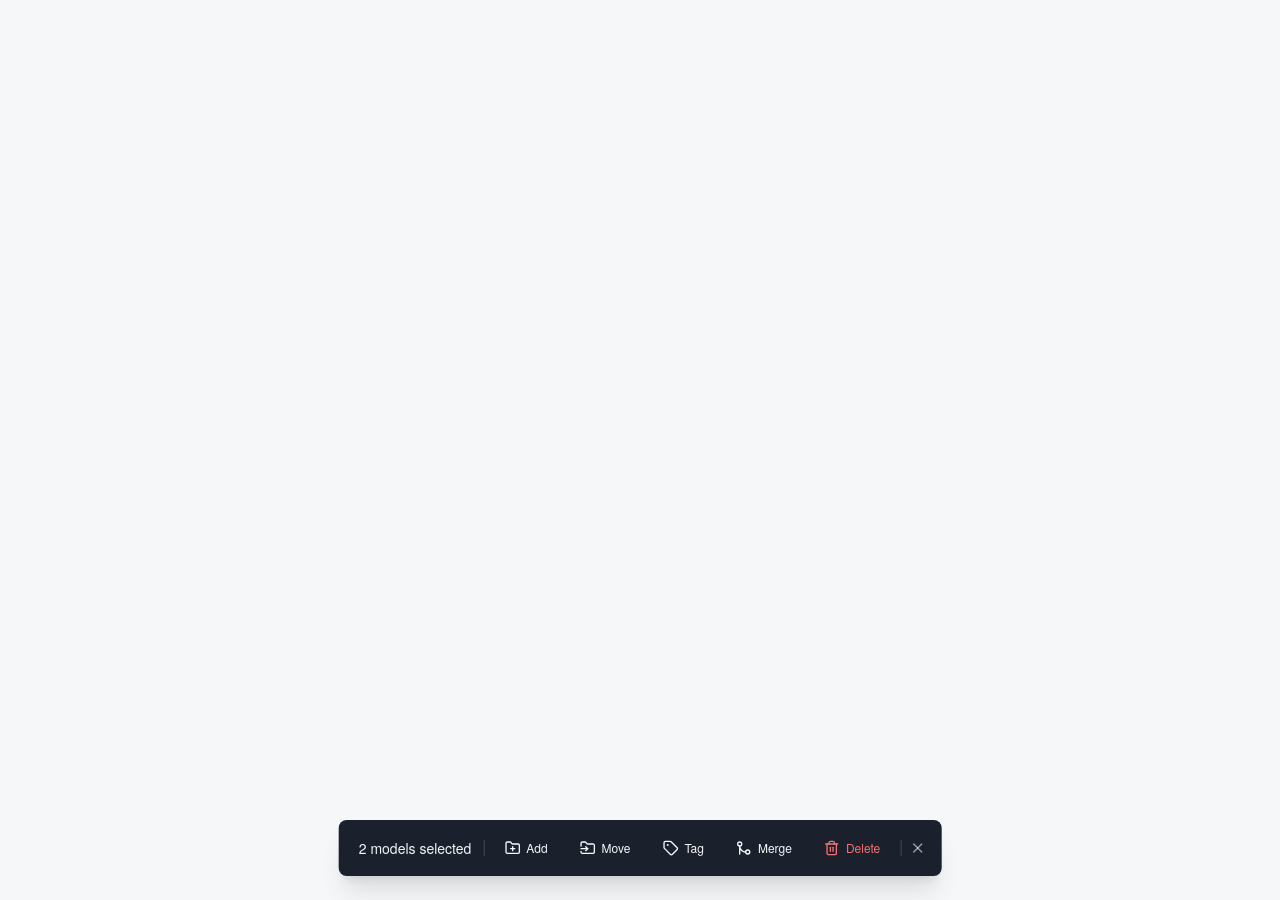
Test: BulkActions › merge › keeps merge disabled until a target is chosen
Click the button "Merge" at coordinates (764, 848), box x1=724 y1=832 x2=804 y2=864
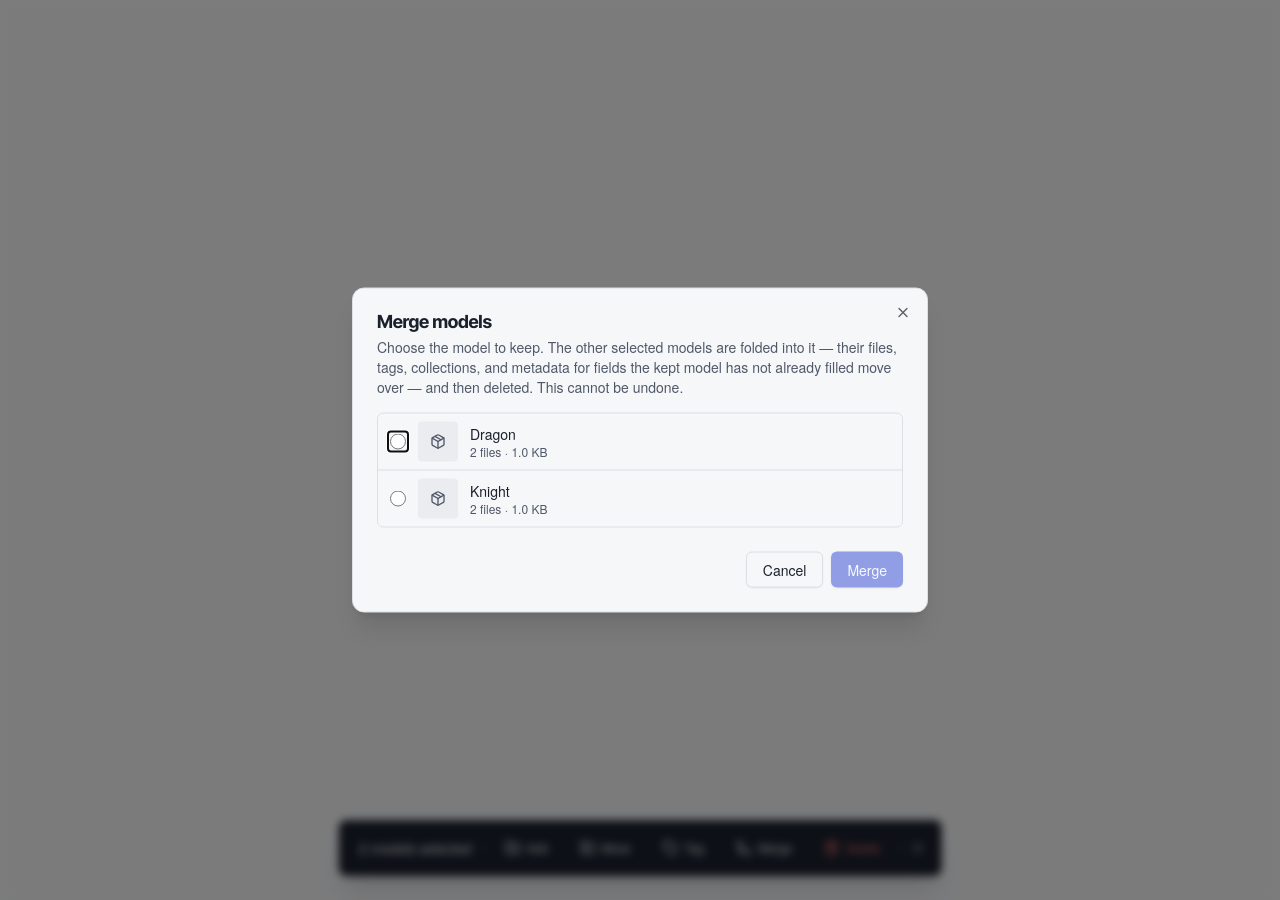
Expected: the button "Merge" is disabled, x1=831 y1=552 x2=903 y2=588
